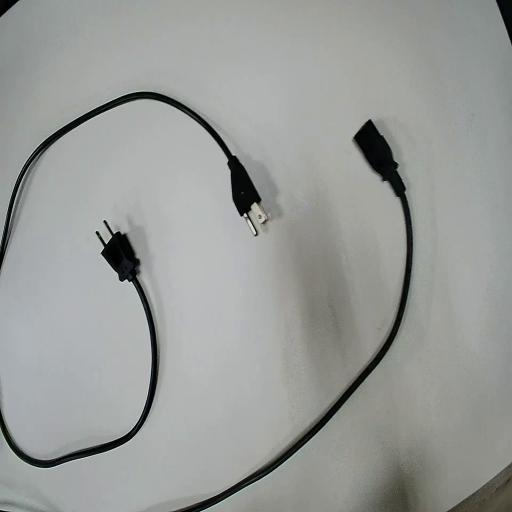wire: (180, 121, 411, 511), (0, 92, 260, 264), (0, 232, 157, 466)
